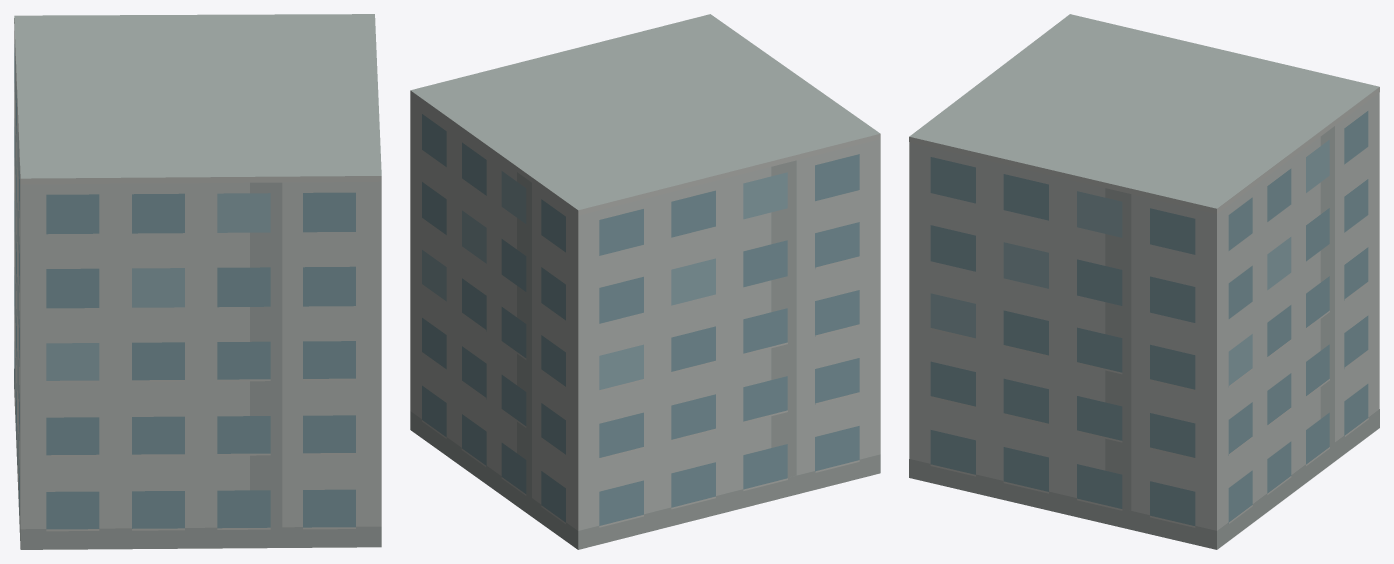
Rendered from survey-upis-32877636.glb.
The picture shows the model from 3 angles, left to right: view 1: azimuth 30°, elevation 25°; view 2: azimuth 150°, elevation 25°; view 3: azimuth 270°, elevation 25°; orthographic projection. The views are drawn at different scales.
Visible parts, largest first — view 1: survey-upis-32877636.tmp; view 2: survey-upis-32877636.tmp; view 3: survey-upis-32877636.tmp.
Boxes of the visible parts, <box> form: survey-upis-32877636.tmp: <box>14,14,381,549</box>; survey-upis-32877636.tmp: <box>410,14,880,549</box>; survey-upis-32877636.tmp: <box>909,14,1379,549</box>.
Size of the model in its own units: 18.67 by 15.25 by 19.07.
